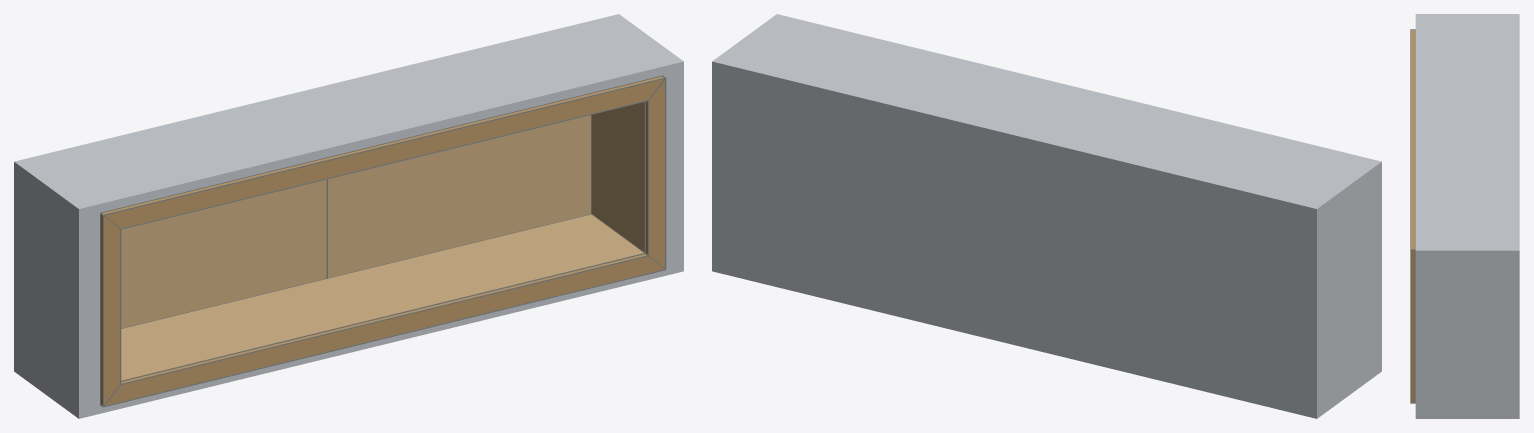
File: modell.glb
3 renders of one model, left to right at view 1: azimuth 30°, elevation 25°; view 2: azimuth 150°, elevation 25°; view 3: azimuth 270°, elevation 25°, orthographic. The views are drawn at different scales.
Size of the model in its own units: 1442 by 478 by 282.
